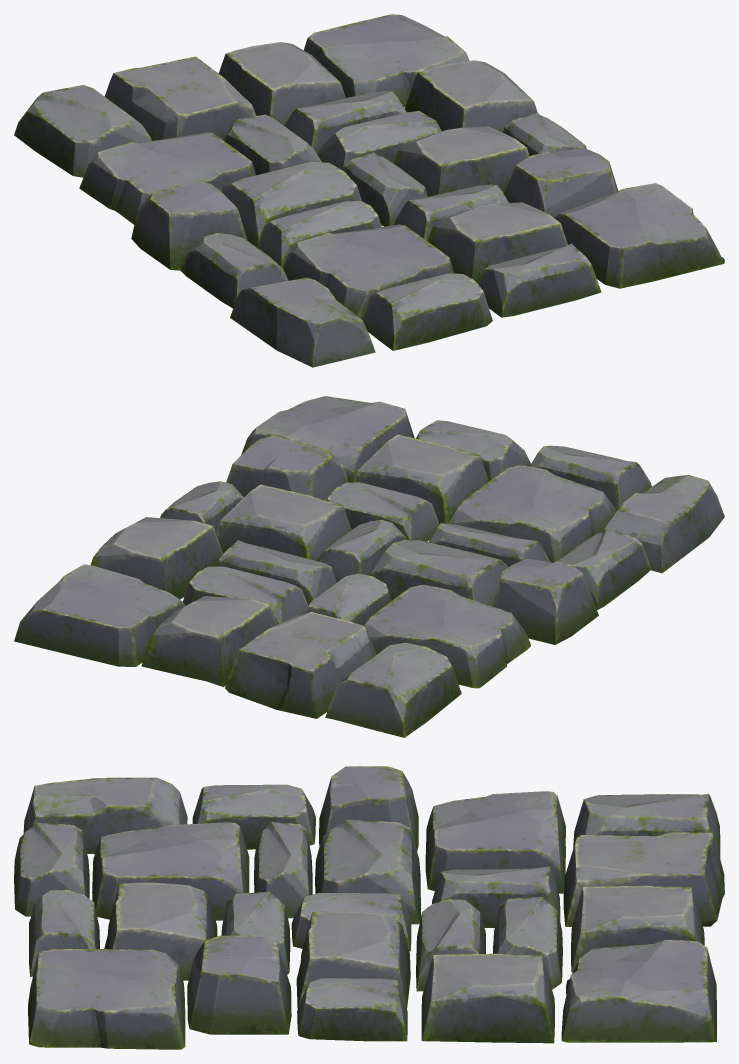
Rendered from RockPath_Square_Thin.gltf.
3 renders of one model, top to bottom at view 1: azimuth 30°, elevation 25°; view 2: azimuth 150°, elevation 25°; view 3: azimuth 270°, elevation 25°, orthographic. The views are drawn at different scales.
Visible parts, largest first — view 1: RockPath_Square_Thin; view 2: RockPath_Square_Thin; view 3: RockPath_Square_Thin.
Part boxes in pixels (<box>): RockPath_Square_Thin: <box>14,14,724,367</box>; RockPath_Square_Thin: <box>14,396,724,737</box>; RockPath_Square_Thin: <box>14,766,724,1049</box>.
Bounding box in the file's own units: 1.56 × 0.1763 × 1.99.
1 material, 1 textured.
